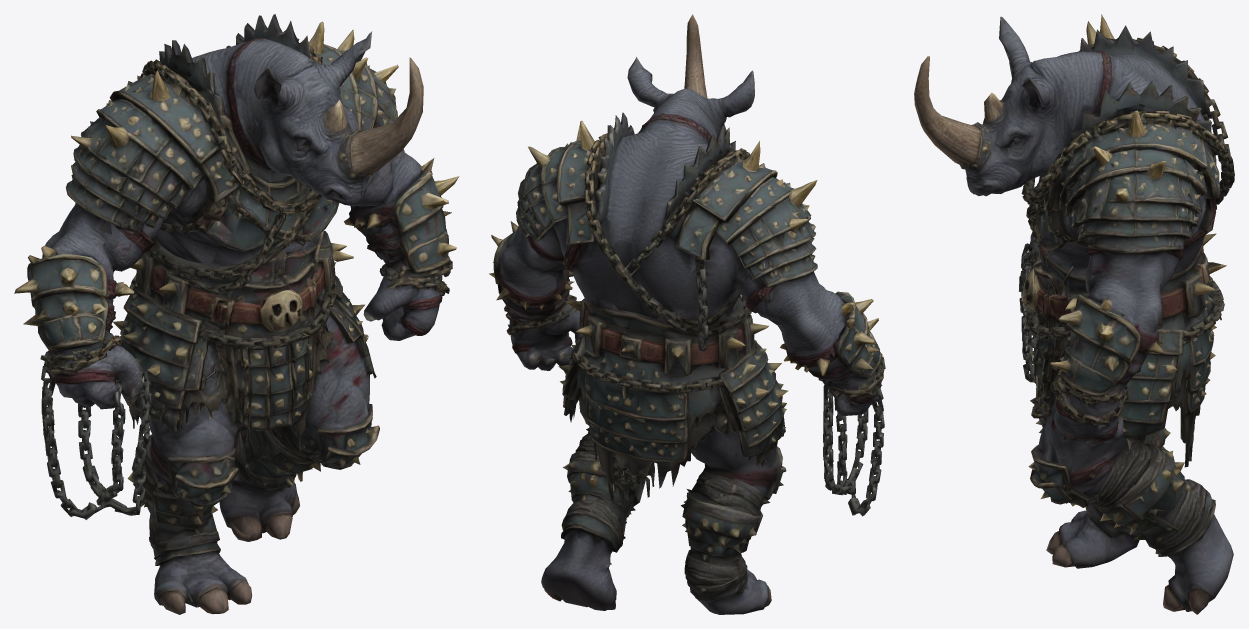
Rendered from enemy-rare-lods-v1.glb.
3 renders of one model, left to right at view 1: azimuth 30°, elevation 25°; view 2: azimuth 150°, elevation 25°; view 3: azimuth 270°, elevation 25°, orthographic. The views are drawn at different scales.
Parts seen in each view (by area): view 1: Rare_LOD0; view 2: Rare_LOD0; view 3: Rare_LOD0.
Part boxes in pixels (x1,y1,x2,y2): Rare_LOD0: [14, 14, 459, 614]; Rare_LOD0: [489, 14, 885, 614]; Rare_LOD0: [914, 14, 1234, 614].
Size of what is drawn, in the model's own units: 0.7926 by 0.982 by 0.5127.
Materials: 1 (1 with a texture image).
